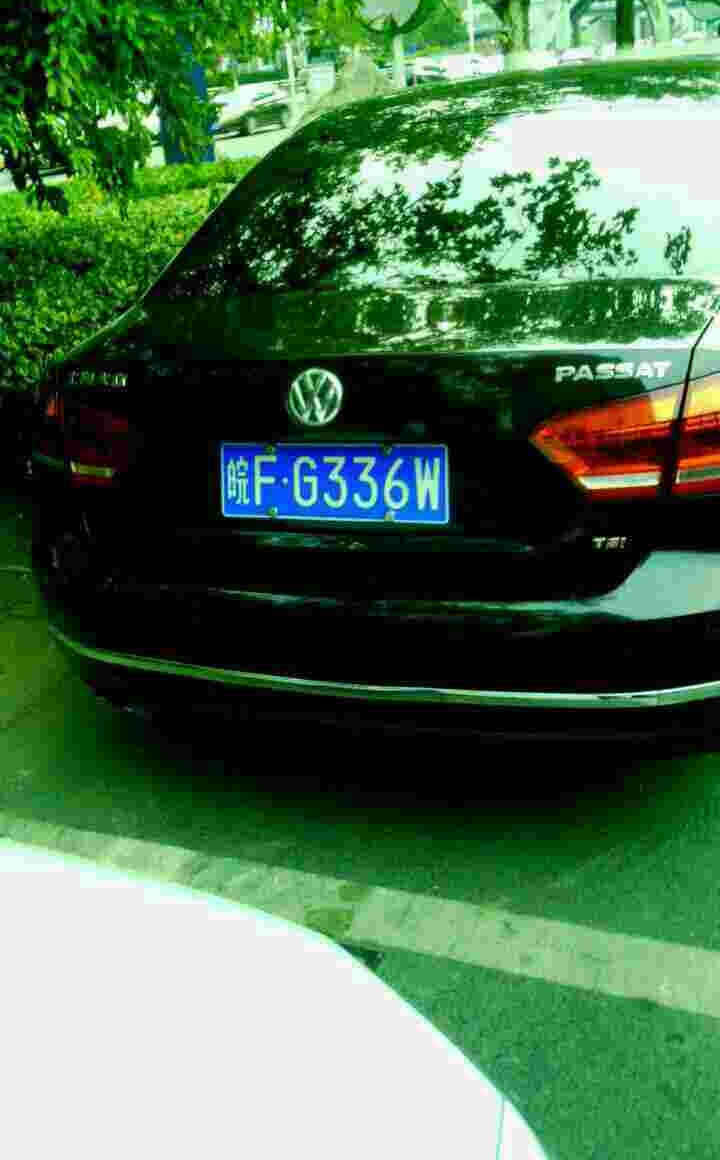plate: (216, 436, 452, 528)
